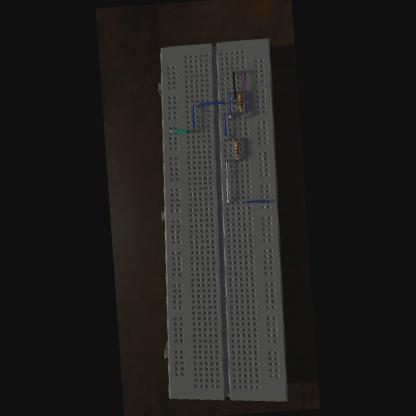breadboard: (143, 38, 295, 410)
resistor: (235, 140, 241, 156), (238, 93, 244, 108)
wire: (242, 70, 248, 118), (225, 160, 231, 204), (232, 70, 237, 104), (198, 100, 225, 106), (228, 91, 233, 119), (192, 104, 196, 132), (224, 112, 228, 140), (244, 198, 270, 202), (171, 128, 190, 132), (241, 108, 242, 113), (237, 156, 238, 160), (235, 138, 236, 140), (239, 90, 240, 92)
